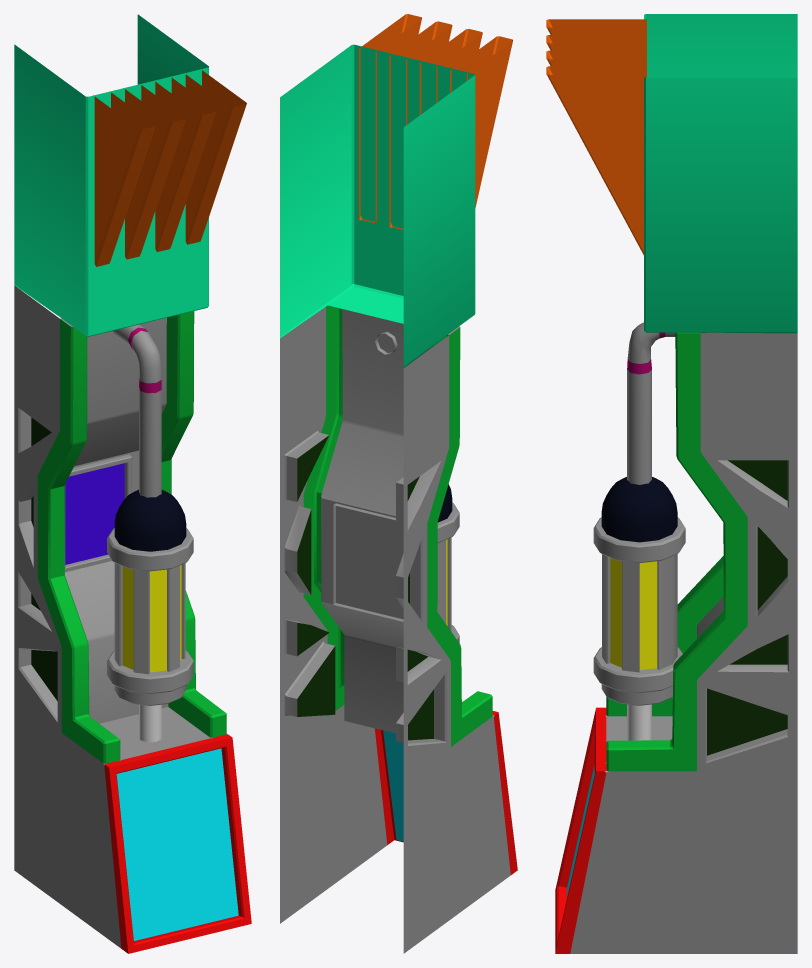
Rendered from palo_intermezzo.FBX.
3 renders of one model, left to right at view 1: azimuth 30°, elevation 25°; view 2: azimuth 150°, elevation 25°; view 3: azimuth 270°, elevation 25°, orthographic. The views are drawn at different scales.
Visible parts, largest first — view 1: Box002, Group001, Capsule001, Box006, Cylinder002, Cylinder001; view 2: Box002, Group001, Capsule001, Box006; view 3: Box002, Group001, Capsule001, Cylinder002, Cylinder001.
Part boxes in pixels (x1,y1,x2,y2): Box002: (14, 285, 251, 953); Group001: (14, 14, 246, 336); Capsule001: (107, 490, 193, 705); Box006: (65, 454, 131, 572); Cylinder002: (112, 324, 161, 497); Cylinder001: (139, 704, 161, 742); Box002: (280, 305, 517, 953); Group001: (280, 14, 512, 367); Capsule001: (437, 484, 459, 642); Box006: (333, 503, 403, 621); Box002: (555, 332, 797, 953); Group001: (546, 14, 797, 333); Capsule001: (593, 477, 685, 705); Cylinder002: (627, 322, 705, 484); Cylinder001: (627, 704, 651, 740).
Bounding box in the file's own units: 150 × 960 × 249.
